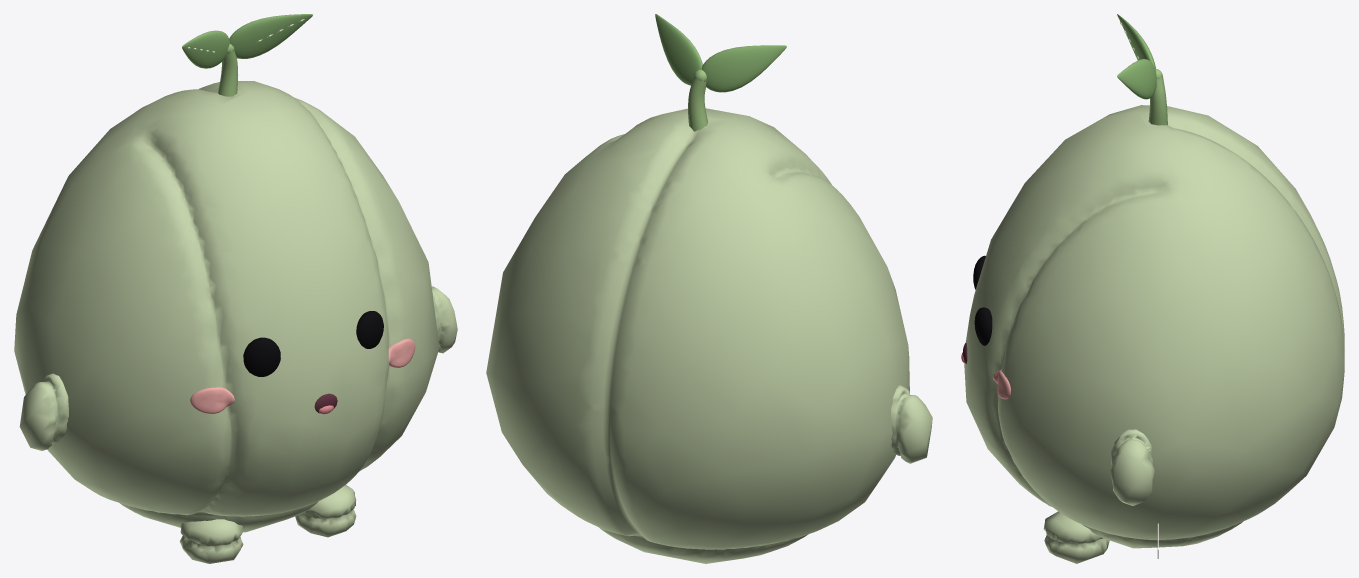
The model's file is sprout.glb.
3 renders of one model, left to right at view 1: azimuth 30°, elevation 25°; view 2: azimuth 150°, elevation 25°; view 3: azimuth 270°, elevation 25°, orthographic. The views are drawn at different scales.
Parts seen in each view (by area): view 1: Body, ArmR, FootR, LeafL, FootL, LeafR, EyeR, ArmL, CheekR, EyeL, Stalk, CheekL; view 2: Body, LeafR, ArmR, LeafL, Stalk; view 3: Body, ArmL, FootL, LeafL, Stalk, LeafR, EyeL.
Boxes of the visible parts, x1,y1,x2,y2 form: Body: (14,81,439,532); ArmR: (19,373,68,450); FootR: (179,519,243,563); LeafL: (229,14,312,58); FootL: (295,485,356,537); LeafR: (182,30,229,68); EyeR: (243,337,280,376); ArmL: (431,286,457,353); CheekR: (190,387,234,413); EyeL: (356,311,383,348); Stalk: (218,44,238,96); CheekL: (388,338,415,367); Body: (486,108,909,563); LeafR: (701,45,786,92); ArmR: (891,385,932,463); LeafL: (655,14,702,85); Stalk: (688,69,707,131); Body: (964,105,1344,548); ArmL: (1110,429,1154,505); FootL: (1043,511,1109,563); LeafL: (1117,59,1156,99); Stalk: (1148,69,1167,125); LeafR: (1117,14,1155,68); EyeL: (974,307,992,345).
Bounding box in the file's own units: 1.92 × 2.12 × 1.51.
